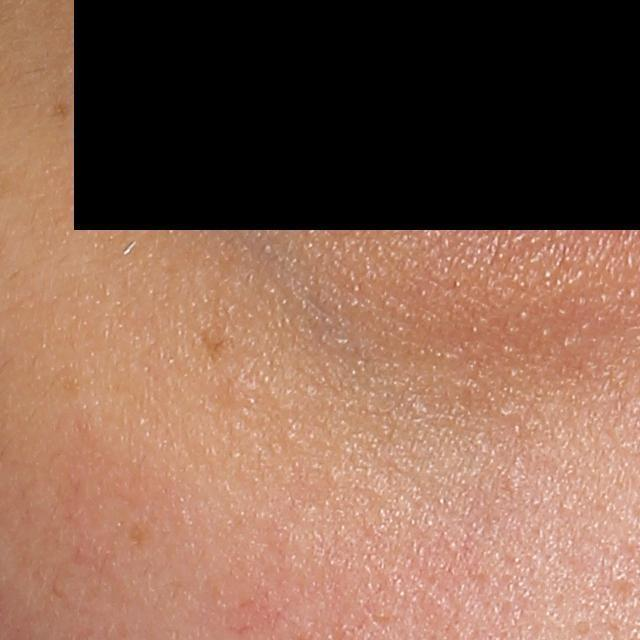melasma: (193, 321, 235, 369)
